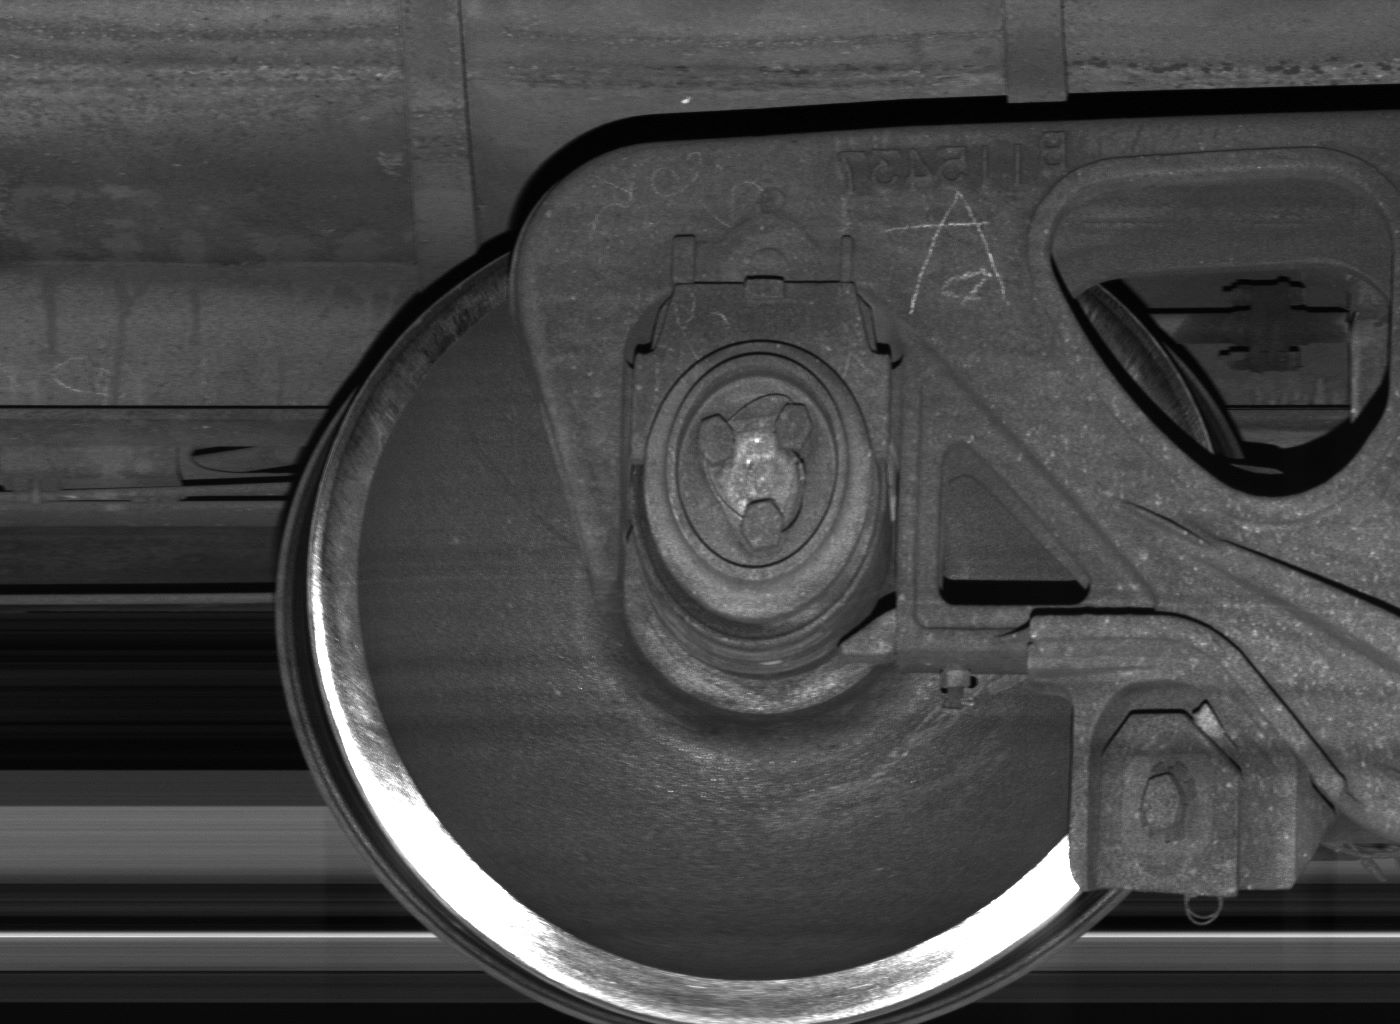normal: (1070, 676, 1300, 900)
